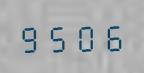five: (45, 20, 71, 53)
nine: (18, 20, 44, 53)
six: (99, 19, 125, 52)
zero: (72, 19, 98, 52)
